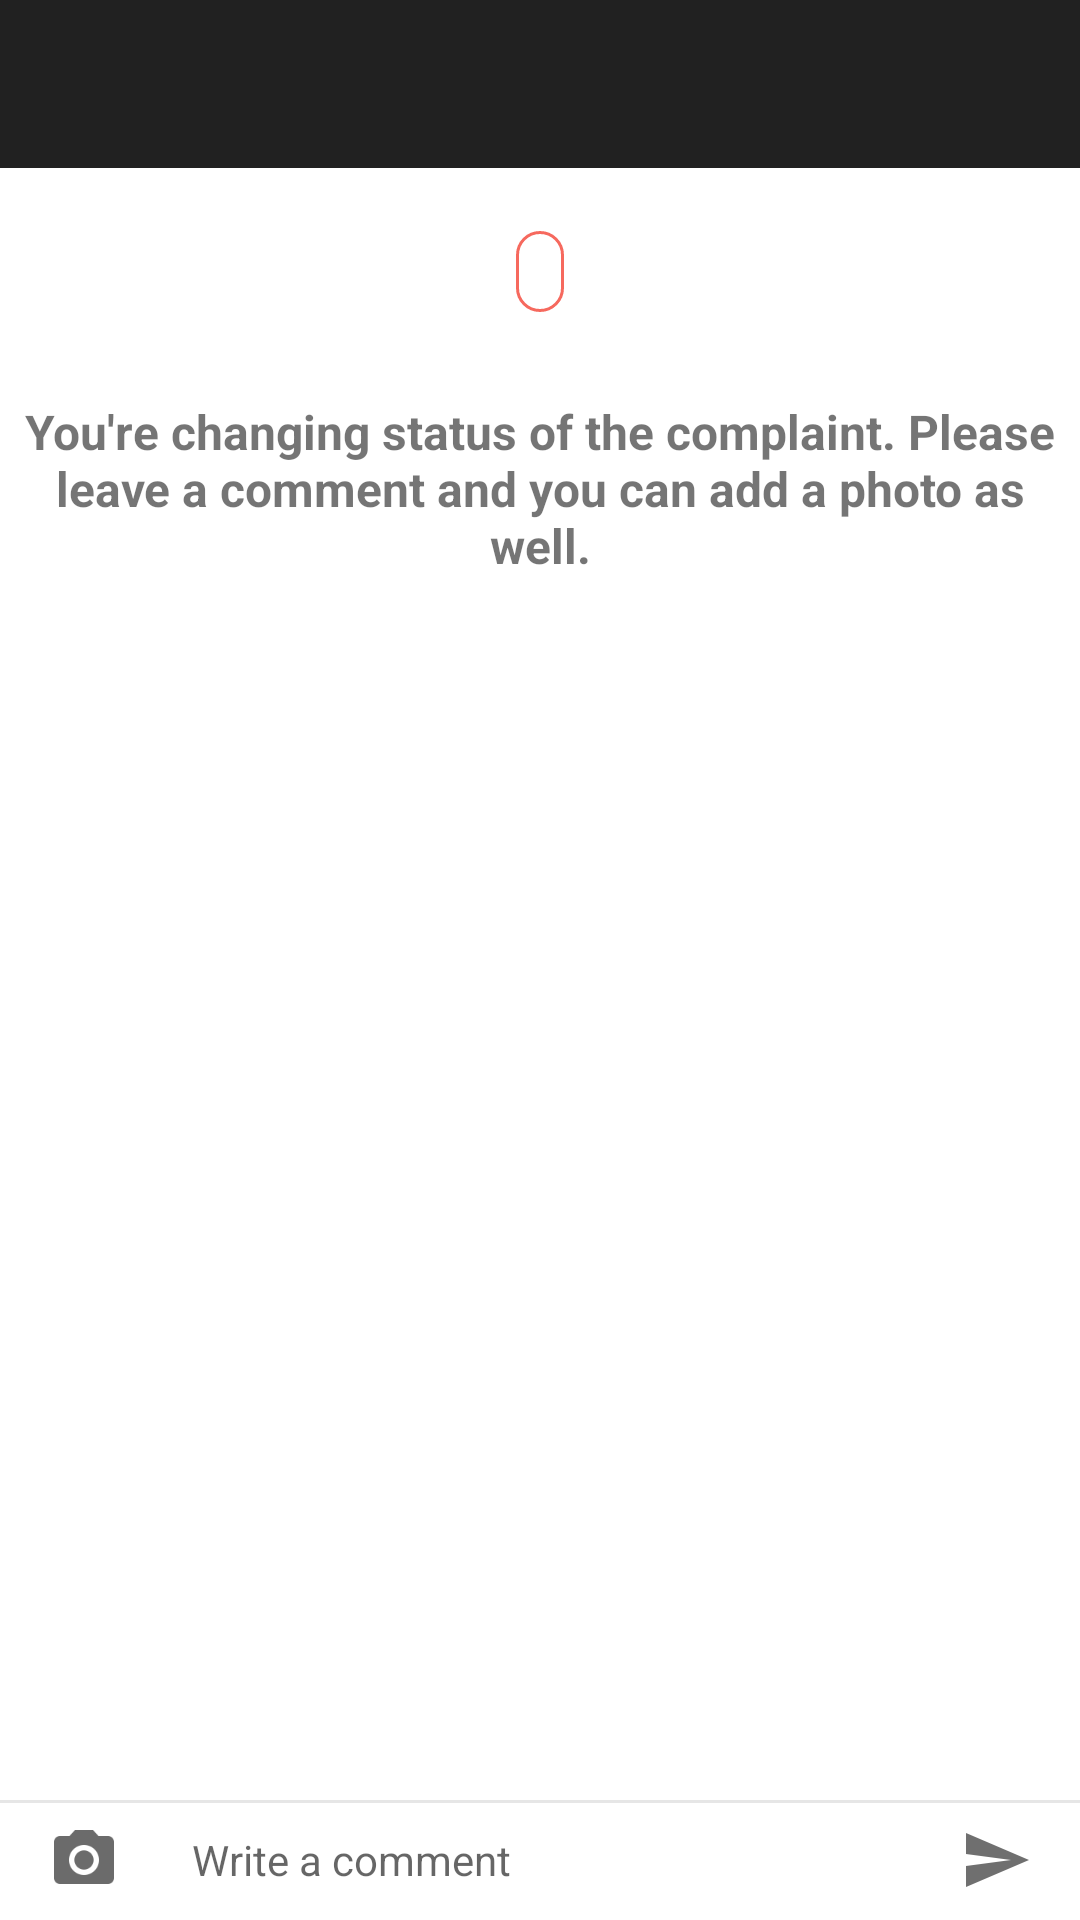

Named icons in this screenshot (1080×1920) and their centers, (x=x, y=y):
send: (x=997, y=1860)
